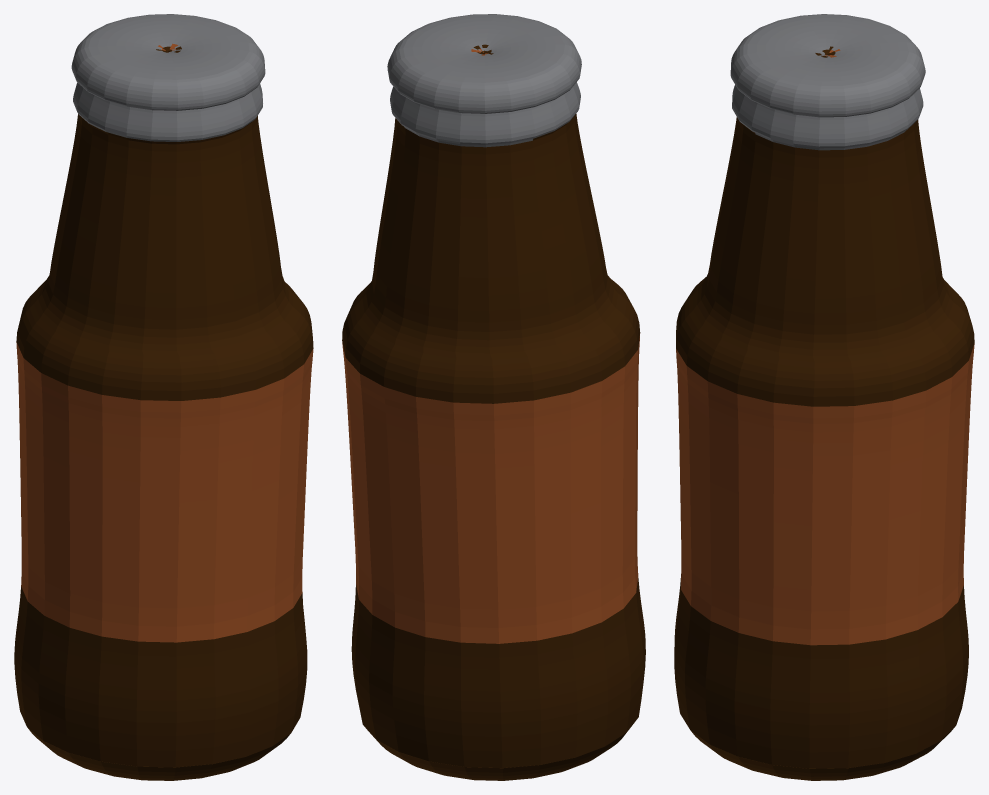
File: botella.glb
The picture shows the model from 3 angles, left to right: view 1: azimuth 30°, elevation 25°; view 2: azimuth 150°, elevation 25°; view 3: azimuth 270°, elevation 25°; orthographic projection.
Visible parts, largest first — view 1: BezierCurve; view 2: BezierCurve; view 3: BezierCurve.
Boxes of the visible parts, x1=… form: BezierCurve: x1=14, y1=14, x2=313, y2=780; BezierCurve: x1=342, y1=14, x2=645, y2=780; BezierCurve: x1=674, y1=14, x2=974, y2=780.
Bounding box in the file's own units: 1.1 × 2.79 × 1.08.
